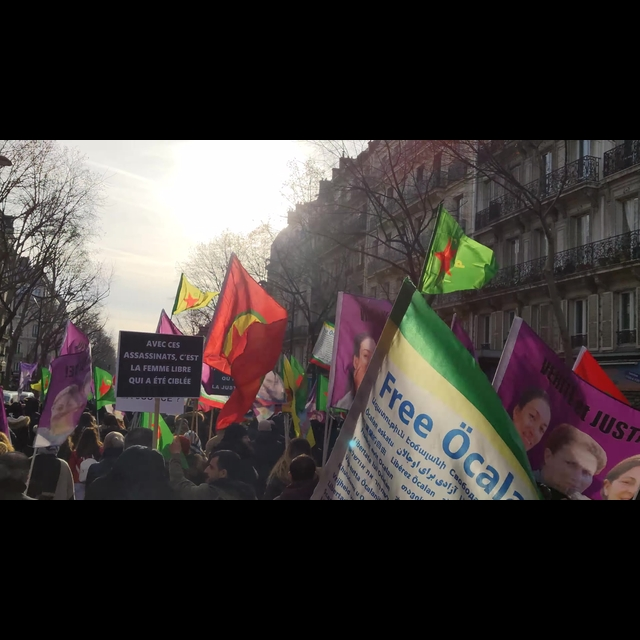PKK: (198, 252, 294, 429)
YPG: (168, 261, 220, 320)
YPJ: (421, 197, 503, 309)
